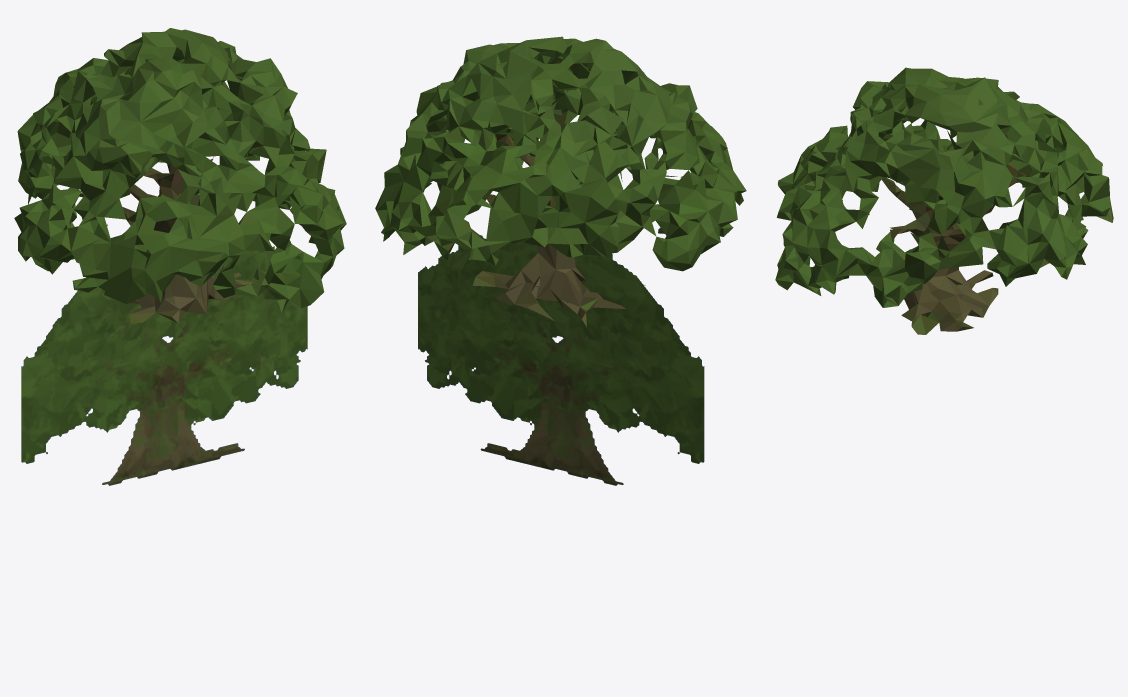
The model's file is mn_oak.glb.
3 renders of one model, left to right at view 1: azimuth 30°, elevation 25°; view 2: azimuth 150°, elevation 25°; view 3: azimuth 270°, elevation 25°, orthographic. The views are drawn at different scales.
Visible parts, largest first — view 1: mn_oak, mn_oak_impostor; view 2: mn_oak, mn_oak_impostor; view 3: mn_oak.
Part boxes in pixels (box(x1,y1,x2,y2)): mn_oak: box(14, 28, 346, 323); mn_oak_impostor: box(21, 250, 307, 485); mn_oak: box(375, 36, 746, 326); mn_oak_impostor: box(418, 235, 704, 485); mn_oak: box(775, 67, 1113, 334).
Size of what is drawn, in the model's own units: 8.92 by 16.89 by 9.55.
Materials: 2 (1 with a texture image).
